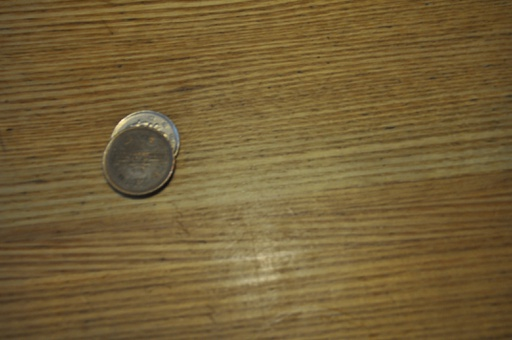100yen: (110, 111, 179, 176)
10yen: (101, 126, 175, 197)
